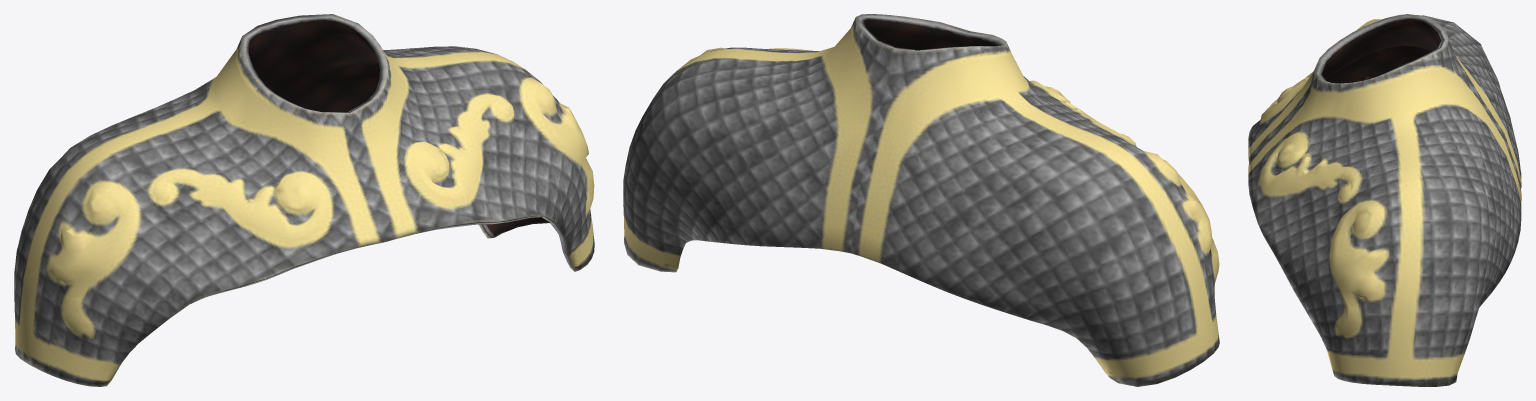
File: armor_shoulder-c17b1581ca44.glb
The picture shows the model from 3 angles, left to right: view 1: azimuth 30°, elevation 25°; view 2: azimuth 150°, elevation 25°; view 3: azimuth 270°, elevation 25°; orthographic projection. The views are drawn at different scales.
Visible parts, largest first — view 1: Shoulder_low; view 2: Shoulder_low; view 3: Shoulder_low.
Part boxes in pixels (bbox=[...]): Shoulder_low: bbox=[14, 14, 594, 386]; Shoulder_low: bbox=[623, 14, 1219, 386]; Shoulder_low: bbox=[1248, 14, 1521, 386].
Size of the model in its own units: 0.6941 by 0.3236 by 0.3302.
1 material, 1 textured.
